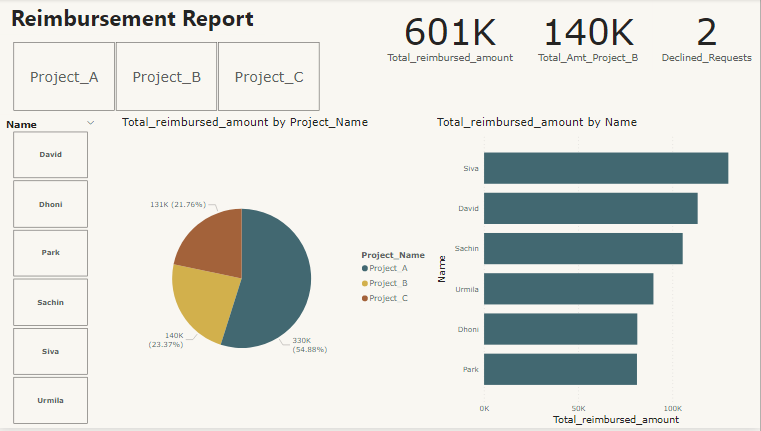

What the dashboard file says about the page in this screenshot:
{"tool":"powerbi","page":{"name":"Reimbursement","canvas":[1280,720],"ordinal":0},"visuals":[{"type":"card","fields":{"Values":["reimbursement.Total_reimbursed_amount"]},"box":[636.6,0,245.2,120.9],"z":0},{"type":"card","fields":{"Values":["reimbursement.Total_Amt_Project_B"]},"box":[881.9,0,218.4,120.9],"z":1000},{"type":"card","fields":{"Values":["reimbursement.Declined_Requests"]},"box":[1100.3,0,179.7,120.9],"z":2000},{"type":"slicer","fields":{"Values":["reimbursement.Project_Name"]},"box":[0,65.5,636.2,113.8],"z":3000},{"type":"slicer","fields":{"Values":["Dim_employee.Name"]},"box":[0,194.9,174.7,525.8],"z":4000},{"type":"pieChart","fields":{"Y":["reimbursement.Total_reimbursed_amount"],"Series":["reimbursement.Project_Name"]},"box":[203.3,194.9,529.1,525.8],"z":5000},{"type":"barChart","fields":{"Y":["reimbursement.Total_reimbursed_amount"],"Category":["Dim_employee.Name"]},"box":[732.4,194.9,547.6,525.8],"z":6000},{"type":"textbox","box":[0,0,450.2,60.5],"z":6001}]}

Visuals, with their boxes in screenshot pixels (x1, y1, x2, y2), scaled from the page's 1280x720 canvas onto the 761x431 screenshot:
card - reimbursement.Total_reimbursed_amount: box=[378, 0, 524, 72]
card - reimbursement.Total_Amt_Project_B: box=[524, 0, 654, 72]
card - reimbursement.Declined_Requests: box=[654, 0, 760, 72]
slicer - reimbursement.Project_Name: box=[0, 39, 378, 107]
slicer - Dim_employee.Name: box=[0, 117, 104, 430]
pieChart - reimbursement.Total_reimbursed_amount x reimbursement.Project_Name: box=[121, 117, 435, 430]
barChart - reimbursement.Total_reimbursed_amount x Dim_employee.Name: box=[435, 117, 760, 430]
textbox: box=[0, 0, 268, 36]
